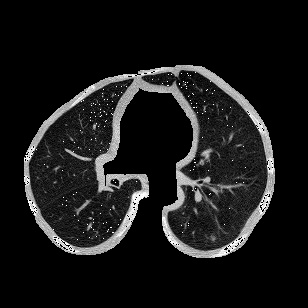PN: (210, 235, 216, 241)
